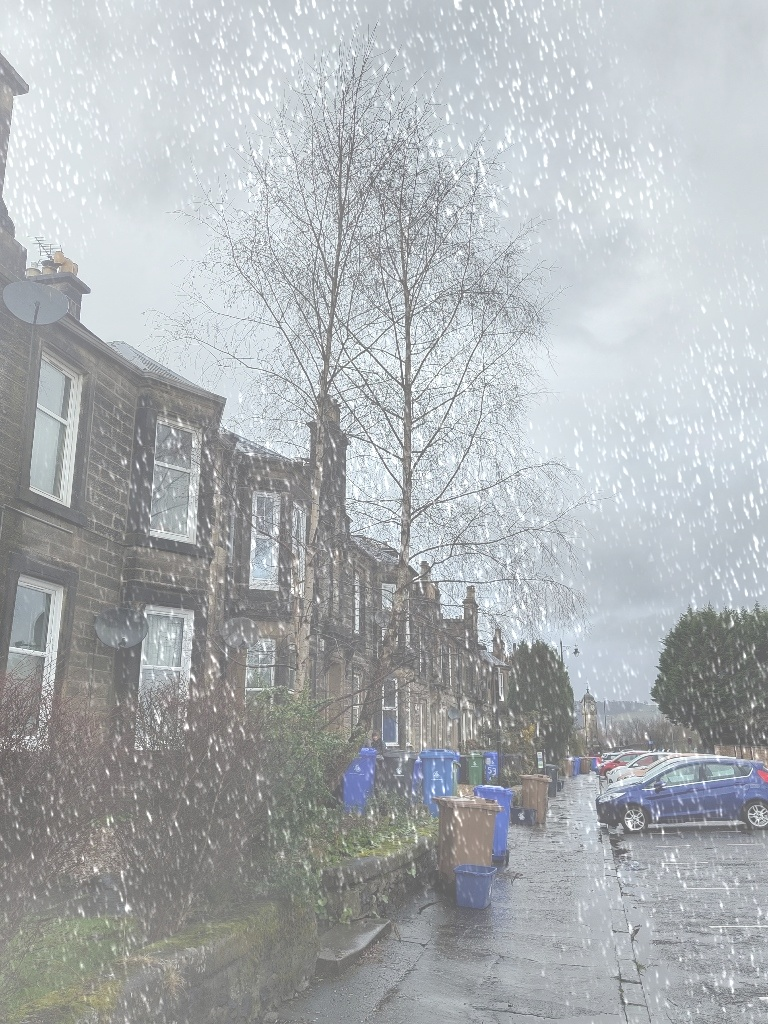Tree: (127, 17, 621, 812), (646, 599, 768, 747), (504, 635, 578, 764)
